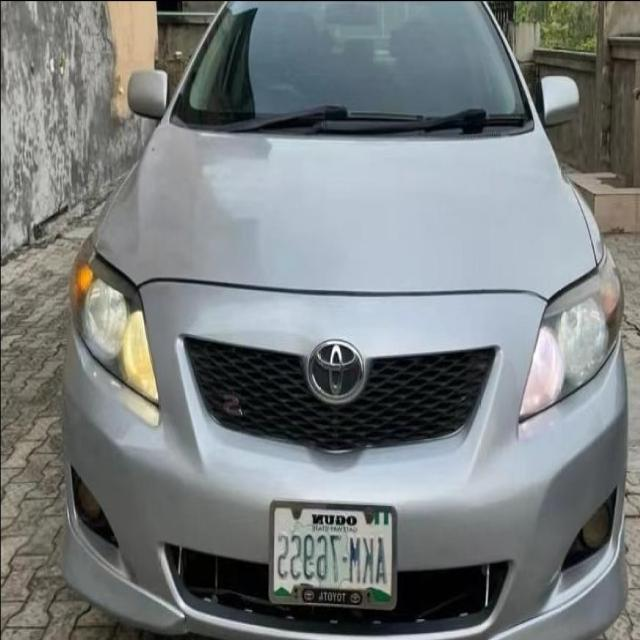Nigerian License Plate - vdataset benjamin-daria: (267, 502, 396, 600)
